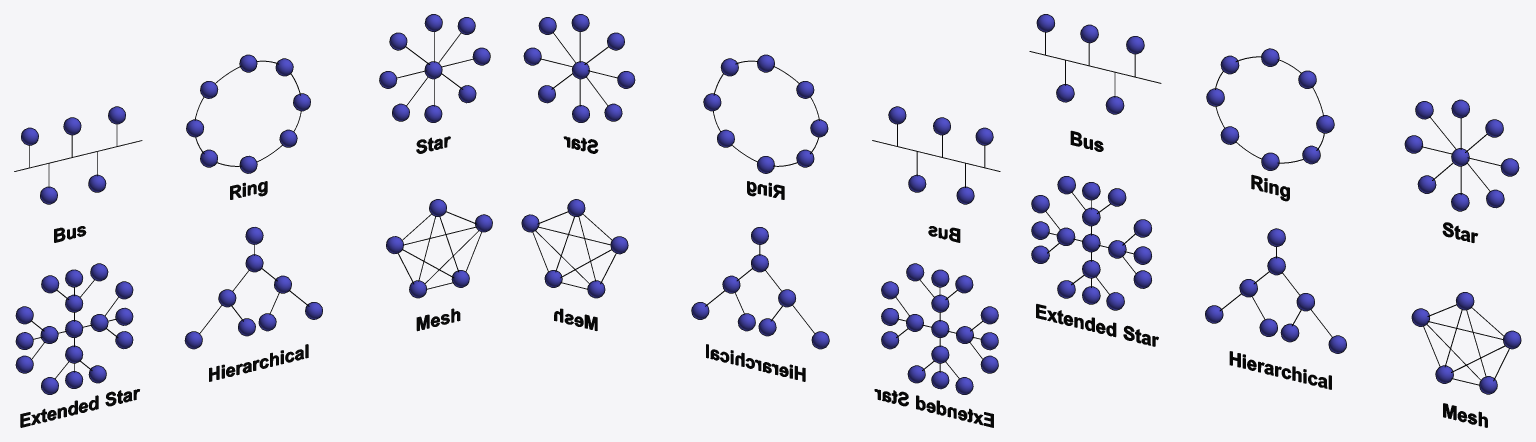
Rendered from topologi.glb.
3 views of the same model, side by side, from view 1: azimuth 30°, elevation 25°; view 2: azimuth 150°, elevation 25°; view 3: azimuth 330°, elevation 25° (orthographic). The views are drawn at different scales.
Visible parts, largest first — view 1: Box029_blue_0, TextPlus001, Box030_bl2_0, Line031; view 2: Box029_blue_0, TextPlus001, Box030_bl2_0, Line031; view 3: Box029_blue_0, TextPlus001, Box030_bl2_0, Line031.
Boxes of the visible parts, x1,y1,x2,y2 form: Box029_blue_0: [16, 14, 492, 394]; TextPlus001: [20, 136, 460, 427]; Box030_bl2_0: [15, 14, 492, 394]; Line031: [14, 32, 481, 378]; Box029_blue_0: [522, 14, 997, 394]; TextPlus001: [554, 136, 993, 427]; Box030_bl2_0: [521, 14, 998, 394]; Line031: [532, 32, 1000, 379]; Box029_blue_0: [1032, 14, 1520, 393]; TextPlus001: [1036, 130, 1487, 427]; Box030_bl2_0: [1031, 14, 1521, 394]; Line031: [1029, 32, 1509, 385].
Bounding box in the file's own units: 10.07 × 6.39 × 0.3339.
